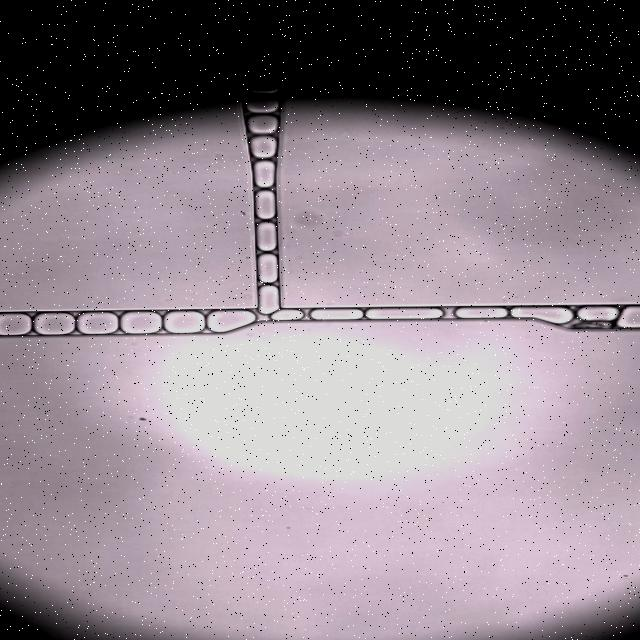L: (246, 115, 278, 135), (257, 254, 278, 283), (578, 307, 618, 322), (258, 285, 279, 313), (250, 136, 276, 158), (253, 161, 275, 187), (245, 97, 278, 114), (311, 309, 362, 320), (456, 307, 507, 318), (256, 190, 275, 219), (257, 222, 276, 251)
S: (511, 308, 573, 325), (207, 311, 255, 332), (34, 312, 75, 335), (366, 308, 442, 320), (77, 312, 118, 334), (121, 312, 162, 334), (165, 311, 205, 333), (0, 314, 32, 335), (617, 307, 640, 328), (272, 309, 302, 320)
